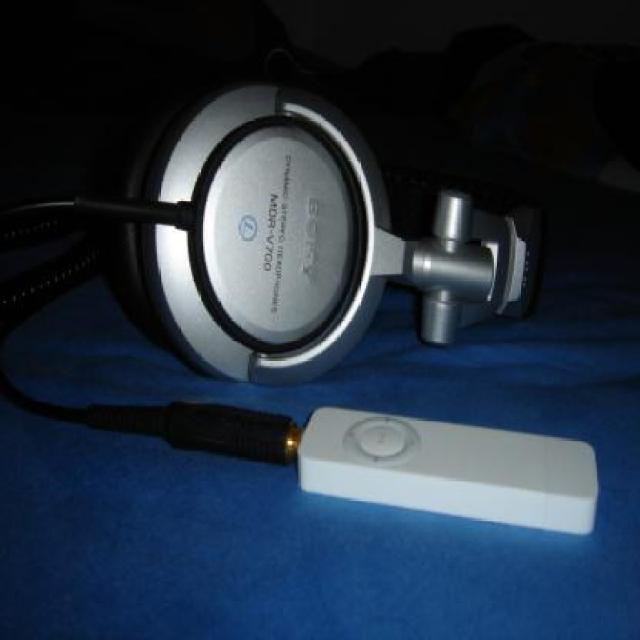earphone: (7, 74, 583, 388)
